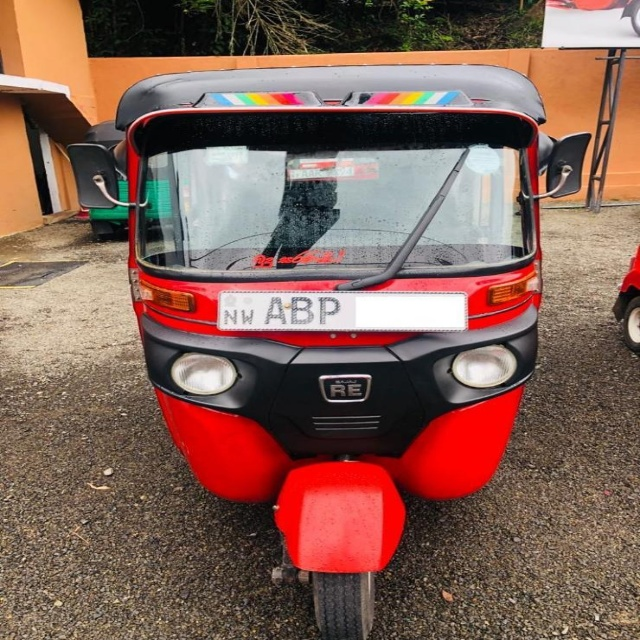Motorcycle: (65, 64, 592, 640)
